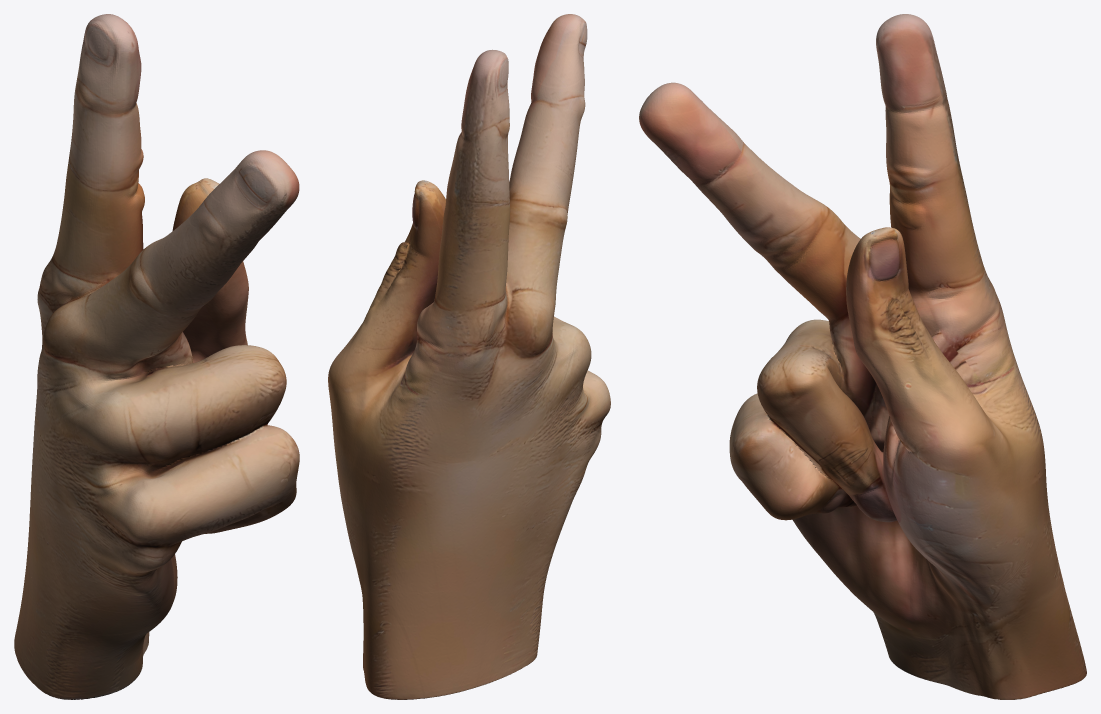
File: letter_K.glb
3 views of the same model, side by side, from view 1: azimuth 30°, elevation 25°; view 2: azimuth 150°, elevation 25°; view 3: azimuth 270°, elevation 25° (orthographic). The views are drawn at different scales.
Visible parts, largest first — view 1: tripo_node_04738206-9a34-492b-8898-ebf34fe56d85; view 2: tripo_node_04738206-9a34-492b-8898-ebf34fe56d85; view 3: tripo_node_04738206-9a34-492b-8898-ebf34fe56d85.
Part boxes in pixels (x1=…): tripo_node_04738206-9a34-492b-8898-ebf34fe56d85: x1=14, y1=14, x2=299, y2=699; tripo_node_04738206-9a34-492b-8898-ebf34fe56d85: x1=328, y1=14, x2=610, y2=699; tripo_node_04738206-9a34-492b-8898-ebf34fe56d85: x1=639, y1=14, x2=1086, y2=699.
Size of the model in its own units: 0.3448 by 1 by 0.6302.
Materials: 1 (1 with a texture image).
